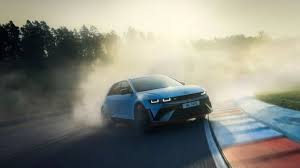Honda Ioniq: (94, 72, 220, 148)
